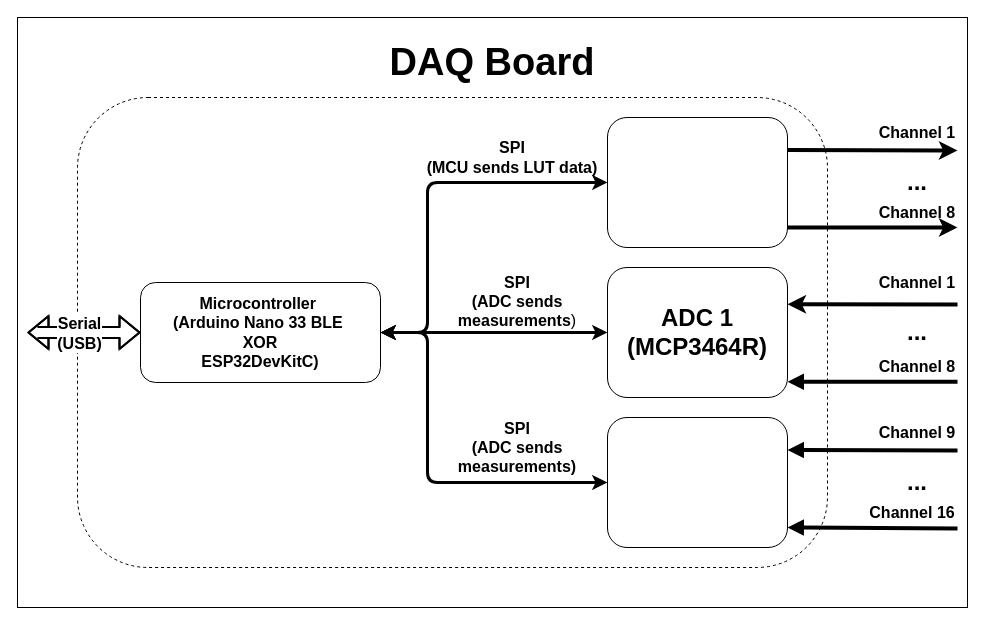
The diagram is 985 pixels wide and 625 high, and some of its shapes have lost their labels. The shapes that lost their labels are listed below. From the top down, each one's centre as x and y in pixels, then its label:
At point (697, 182): "DAC (DAC8568)".
At point (697, 482): "ADC 2 (MCP3464R)".
